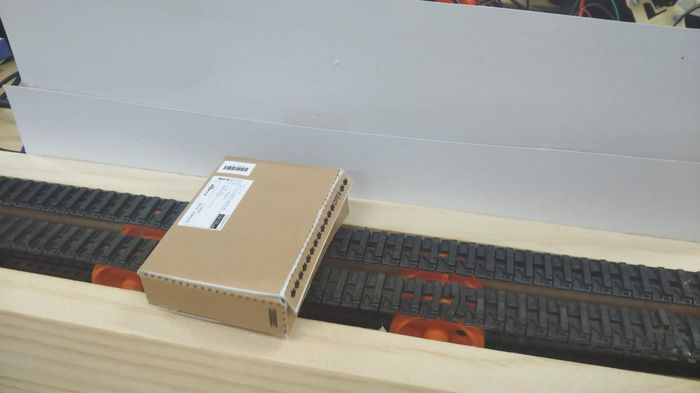box2: (135, 153, 353, 342)
